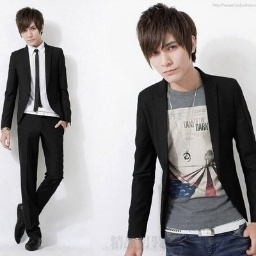face: (133, 4, 199, 83), (15, 6, 47, 50)
